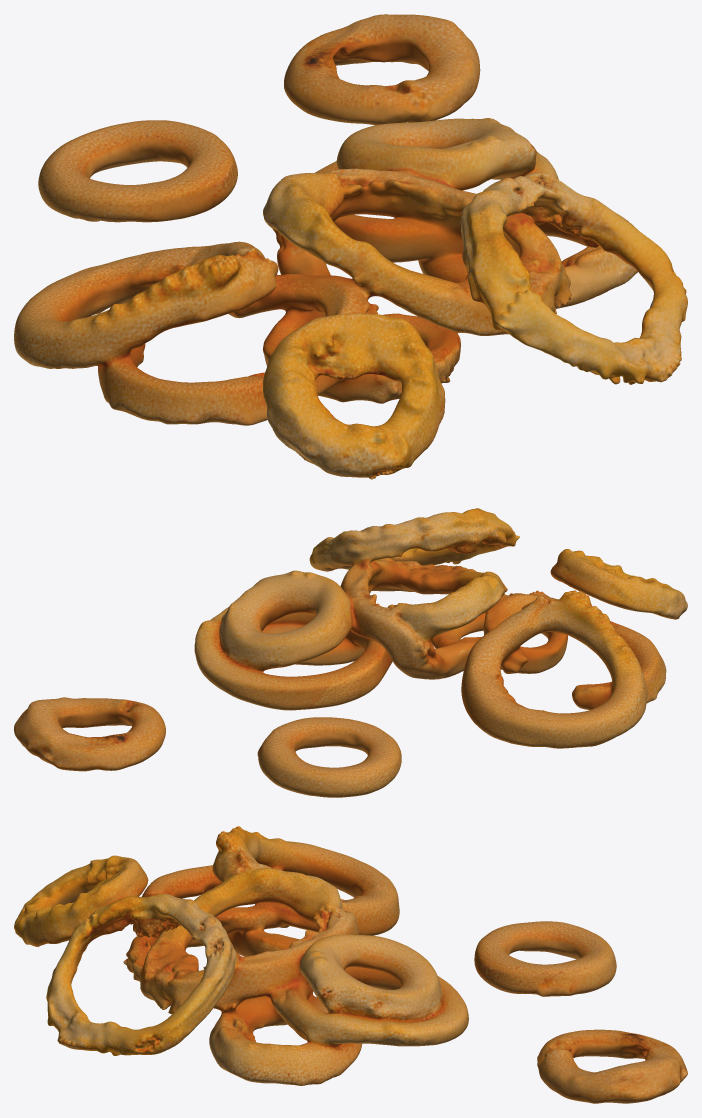
Rendered from loops+3d+model.glb.
The picture shows the model from 3 angles, top to bottom: view 1: azimuth 30°, elevation 25°; view 2: azimuth 150°, elevation 25°; view 3: azimuth 270°, elevation 25°; orthographic projection. The views are drawn at different scales.
Parts seen in each view (by area): view 1: tripo_node_939014c3-860a-49bd-bd26-a29b5b96cf16; view 2: tripo_node_939014c3-860a-49bd-bd26-a29b5b96cf16; view 3: tripo_node_939014c3-860a-49bd-bd26-a29b5b96cf16.
Boxes of the visible parts, x1,y1,x2,y2 form: tripo_node_939014c3-860a-49bd-bd26-a29b5b96cf16: [14, 14, 687, 479]; tripo_node_939014c3-860a-49bd-bd26-a29b5b96cf16: [14, 508, 687, 797]; tripo_node_939014c3-860a-49bd-bd26-a29b5b96cf16: [14, 826, 687, 1103].
Size of the model in its own units: 0.8143 by 0.1829 by 0.98.
1 material, 1 textured.
